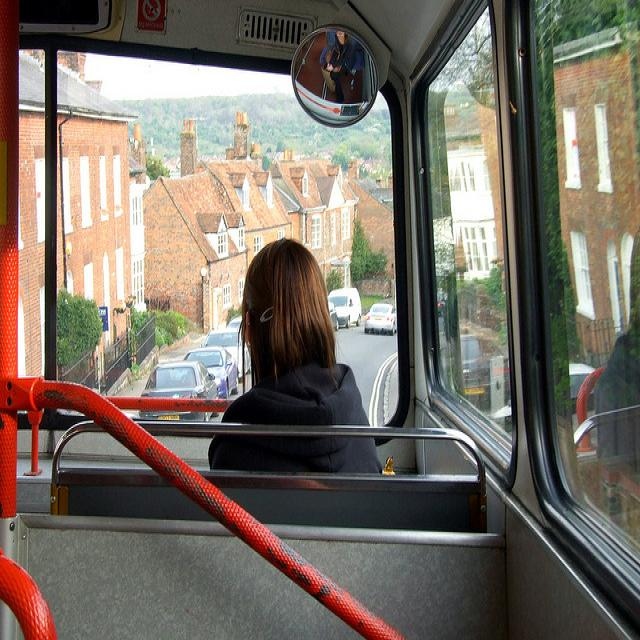Vehicle: (0, 0, 640, 640), (137, 360, 222, 420), (460, 334, 509, 401), (182, 346, 240, 399), (202, 327, 252, 377), (327, 286, 362, 328), (568, 362, 598, 409), (363, 304, 397, 335), (225, 314, 244, 330)
